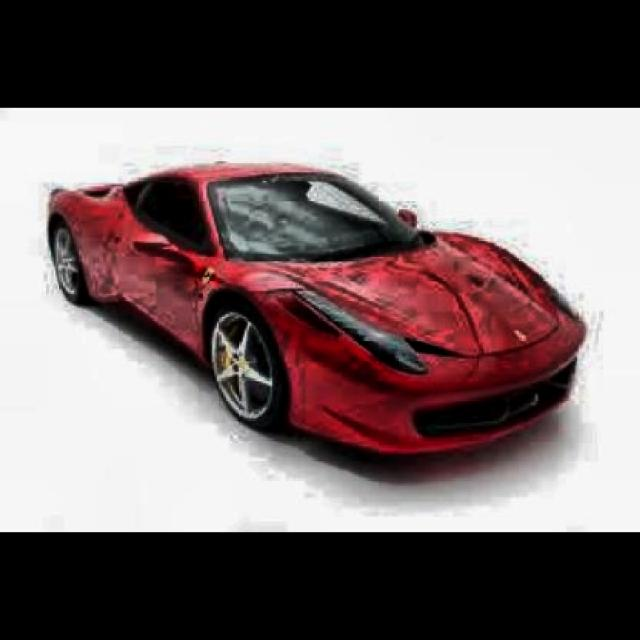red: (0, 168, 581, 445)
